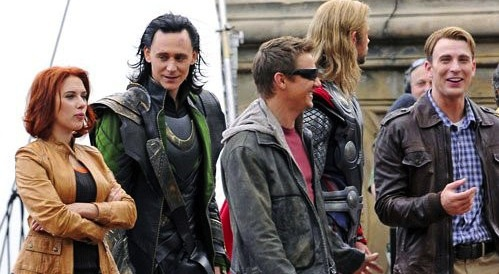bad: (151, 46, 194, 89), (434, 46, 477, 89), (55, 79, 98, 122)
